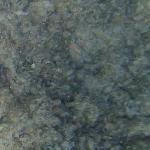dead: (1, 25, 135, 119)
